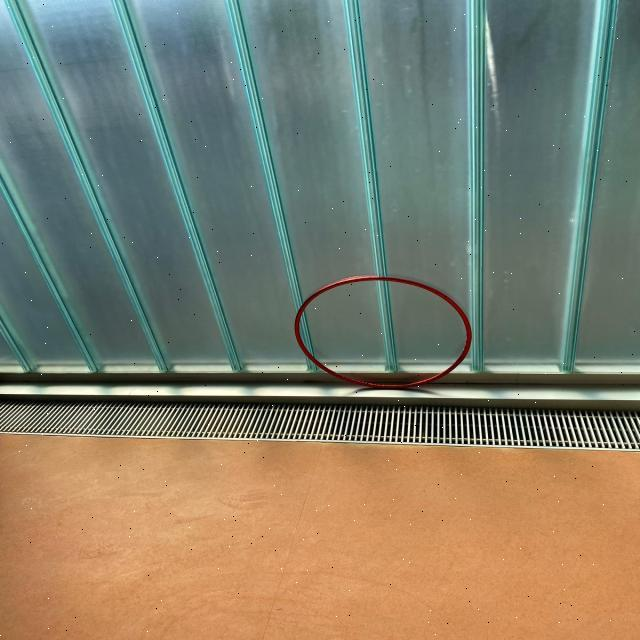Circle: (291, 270, 475, 390)
